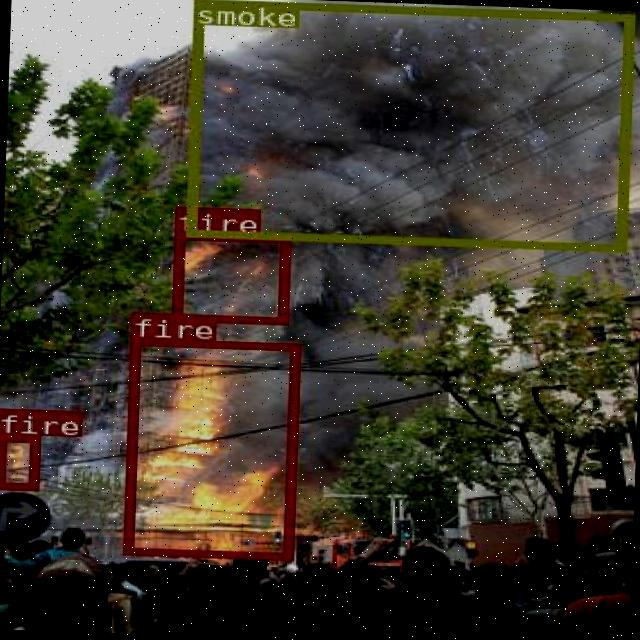fire: (122, 336, 296, 558), (169, 231, 288, 323), (0, 432, 36, 489)
smoke: (184, 0, 632, 249)
